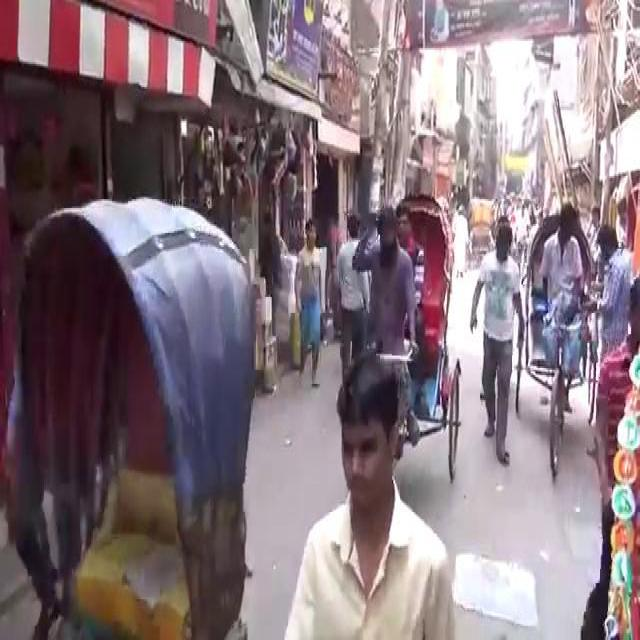rickshaw: (14, 191, 254, 634), (366, 183, 462, 482), (514, 204, 600, 482), (466, 194, 494, 268)
